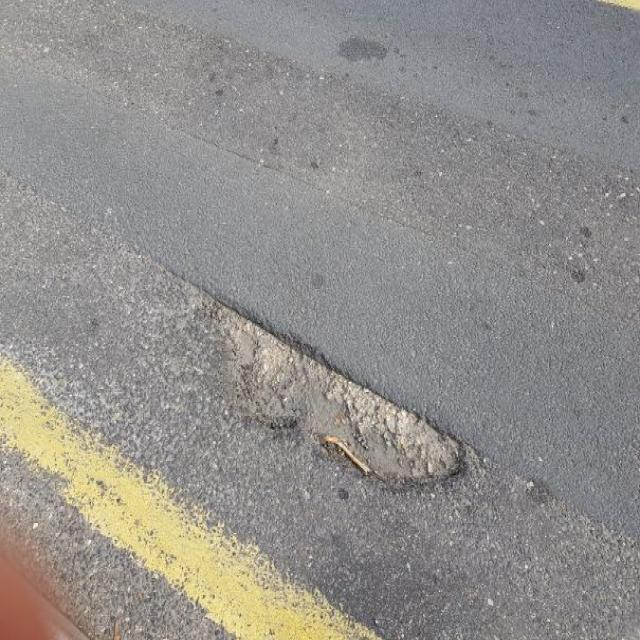pothole: (180, 283, 471, 492)
